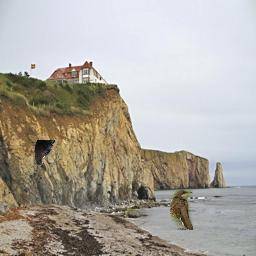Crow: (34, 140, 56, 166)
Cuckoo: (170, 190, 193, 230)
